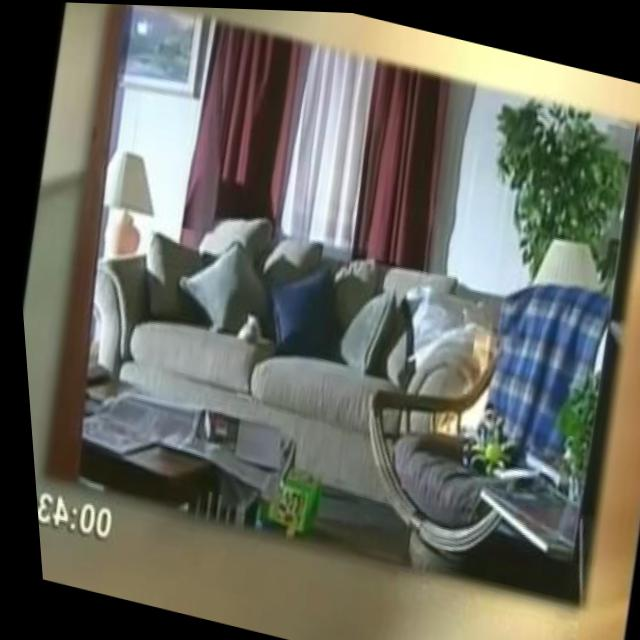fire: (416, 313, 502, 444)
